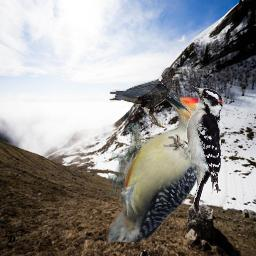Crow: (109, 67, 183, 128)
Woodpecker: (108, 85, 218, 242), (163, 84, 224, 215)
